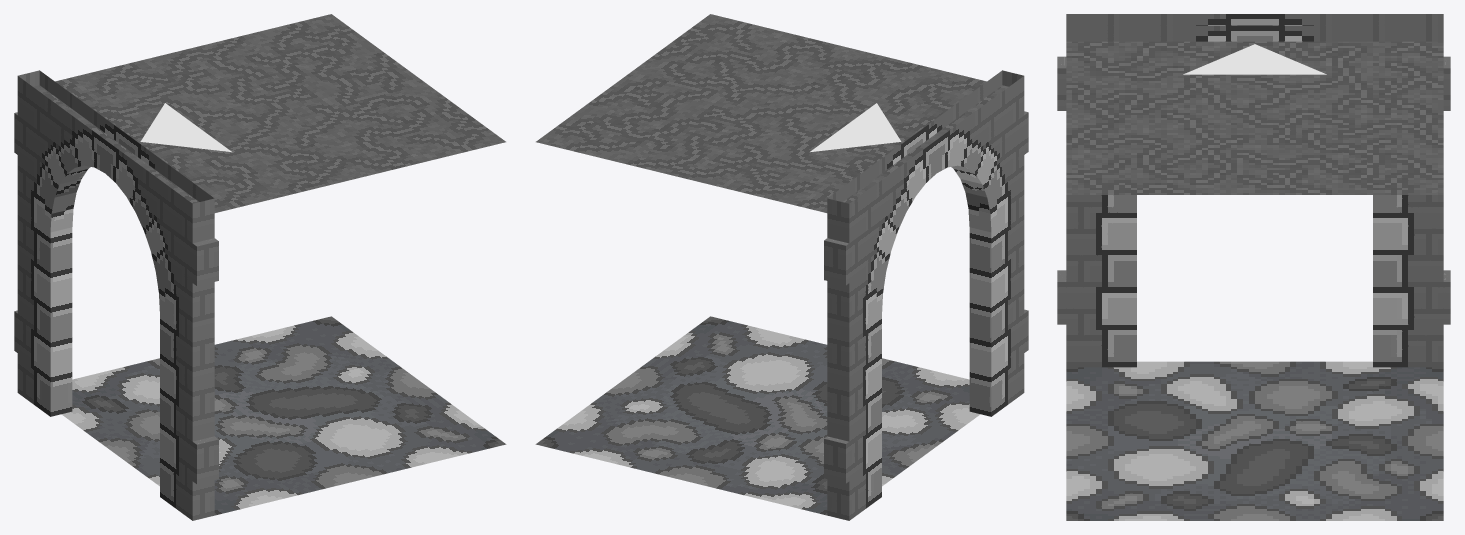
The picture shows the model from 3 angles, left to right: view 1: azimuth 30°, elevation 25°; view 2: azimuth 150°, elevation 25°; view 3: azimuth 270°, elevation 25°; orthographic projection. The views are drawn at different scales.
Parts seen in each view (by area): view 1: D-col; view 2: D-col; view 3: D-col.
Part boxes in pixels (box(x1,y1,x2,y2)): D-col: box(14, 14, 506, 520); D-col: box(535, 14, 1028, 520); D-col: box(1057, 14, 1450, 520).
Size of the model in its own units: 2.07 by 2 by 2.09.
Materials: 4 (3 with a texture image).
